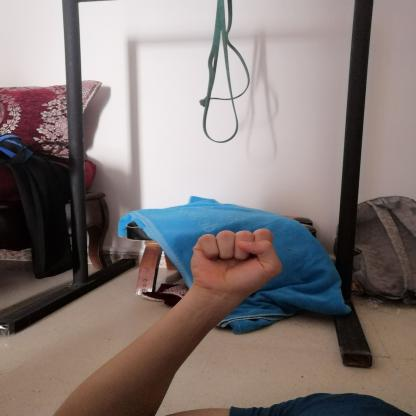SAD: (172, 218, 292, 310)
